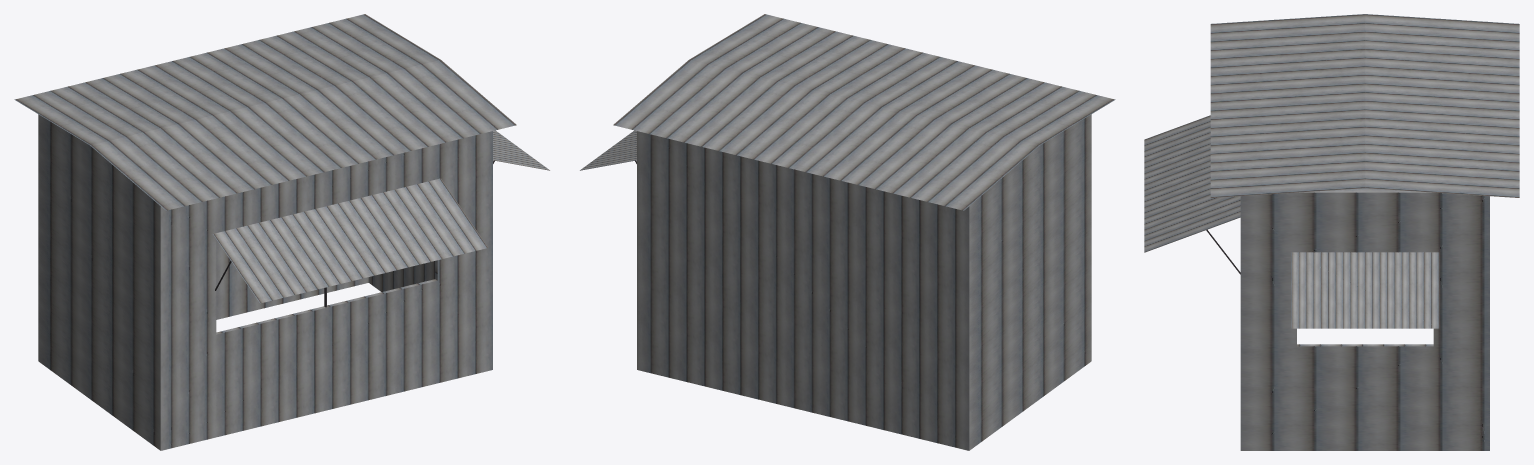
File: Puesto_Comida.obj
The picture shows the model from 3 angles, left to right: view 1: azimuth 30°, elevation 25°; view 2: azimuth 150°, elevation 25°; view 3: azimuth 270°, elevation 25°; orthographic projection.
Visible parts, largest first — view 1: Puesto_Comida; view 2: Puesto_Comida; view 3: Puesto_Comida.
Boxes of the visible parts, left/top/right/bottom form: Puesto_Comida: left=14, top=14, right=549, bottom=450; Puesto_Comida: left=580, top=14, right=1115, bottom=450; Puesto_Comida: left=1144, top=14, right=1519, bottom=450.
Size of the model in its own units: 4.22 by 2.5 by 3.18.
1 material, 1 textured.
